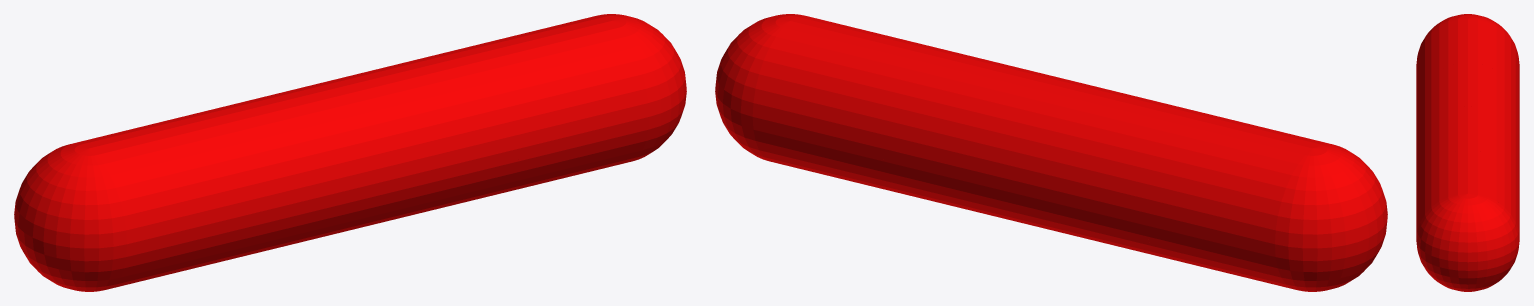
Rendered from longshot.obj.
3 renders of one model, left to right at view 1: azimuth 30°, elevation 25°; view 2: azimuth 150°, elevation 25°; view 3: azimuth 270°, elevation 25°, orthographic. The views are drawn at different scales.
Parts seen in each view (by area): view 1: Cylinder.003; view 2: Cylinder.003; view 3: Cylinder.003.
Part boxes in pixels (x1,y1,x2,y2): Cylinder.003: (14,14,686,291); Cylinder.003: (715,14,1387,291); Cylinder.003: (1416,14,1519,291).
Bounding box in the file's own units: 10 × 2 × 2.
1 material, 1 textured.
